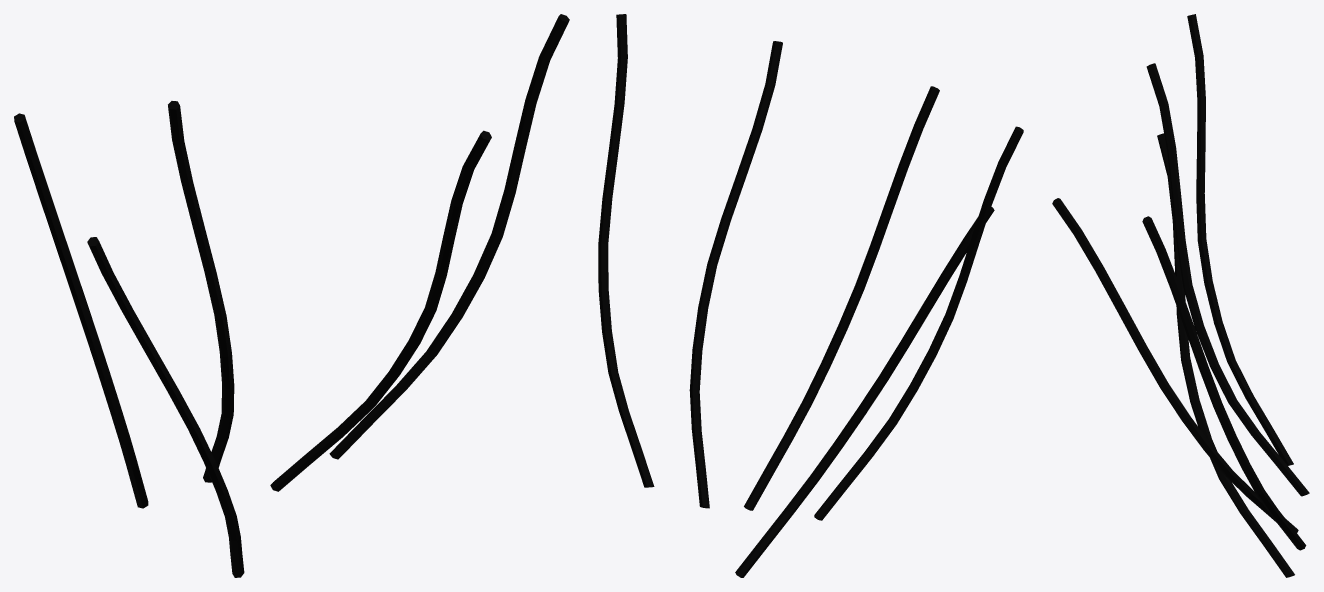
Rendered from Cables.fbx.
The picture shows the model from 3 angles, left to right: view 1: azimuth 30°, elevation 25°; view 2: azimuth 150°, elevation 25°; view 3: azimuth 270°, elevation 25°; orthographic projection. The views are drawn at different scales.
Parts seen in each view (by area): view 1: Cylinder.004; view 2: Cylinder.004; view 3: Cylinder.004.
Part boxes in pixels (box(x1,y1,x2,y2)): Cylinder.004: box(14, 14, 569, 577); Cylinder.004: box(598, 14, 1023, 577); Cylinder.004: box(1052, 14, 1309, 577).
Bounding box in the file's own units: 1426 × 1489 × 762.
